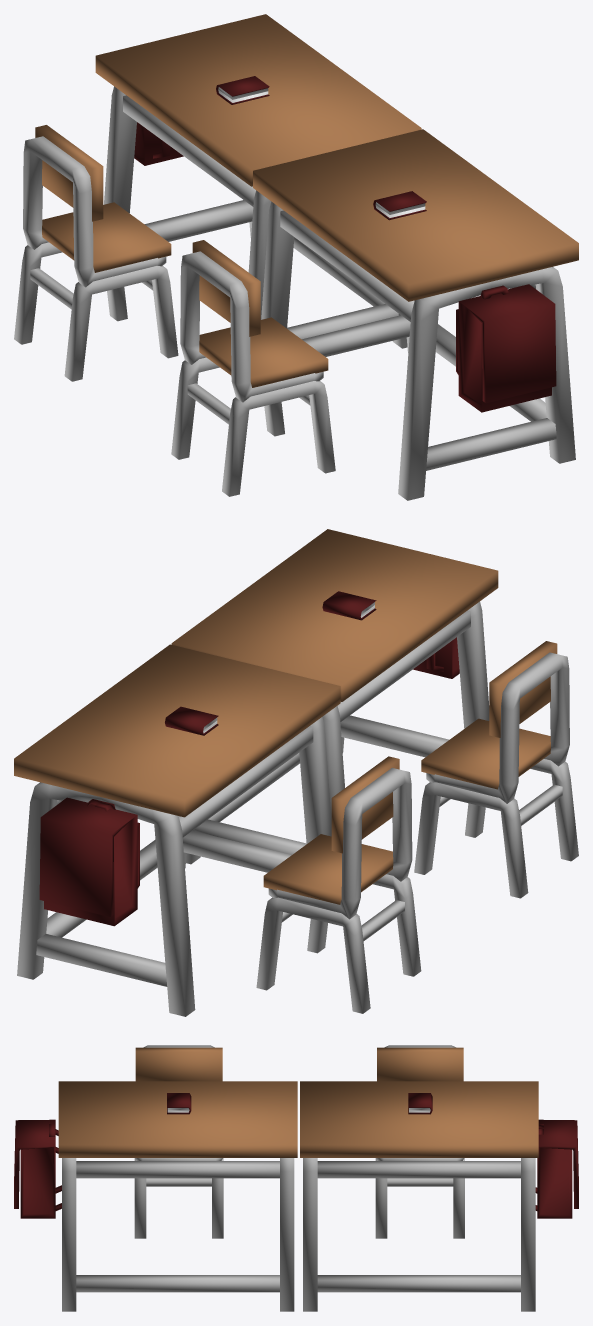
The model's file is SchoolDeskFull.fbx.
3 renders of one model, top to bottom at view 1: azimuth 30°, elevation 25°; view 2: azimuth 150°, elevation 25°; view 3: azimuth 270°, elevation 25°, orthographic. The views are drawn at different scales.
Parts seen in each view (by area): view 1: 평면.003; view 2: 평면.003; view 3: 평면.003.
Part boxes in pixels (<box>): 평면.003: <box>14,14,578,500</box>; 평면.003: <box>14,529,578,1016</box>; 평면.003: <box>14,1045,578,1311</box>.
Bounding box in the file's own units: 129 × 93.52 × 275.
